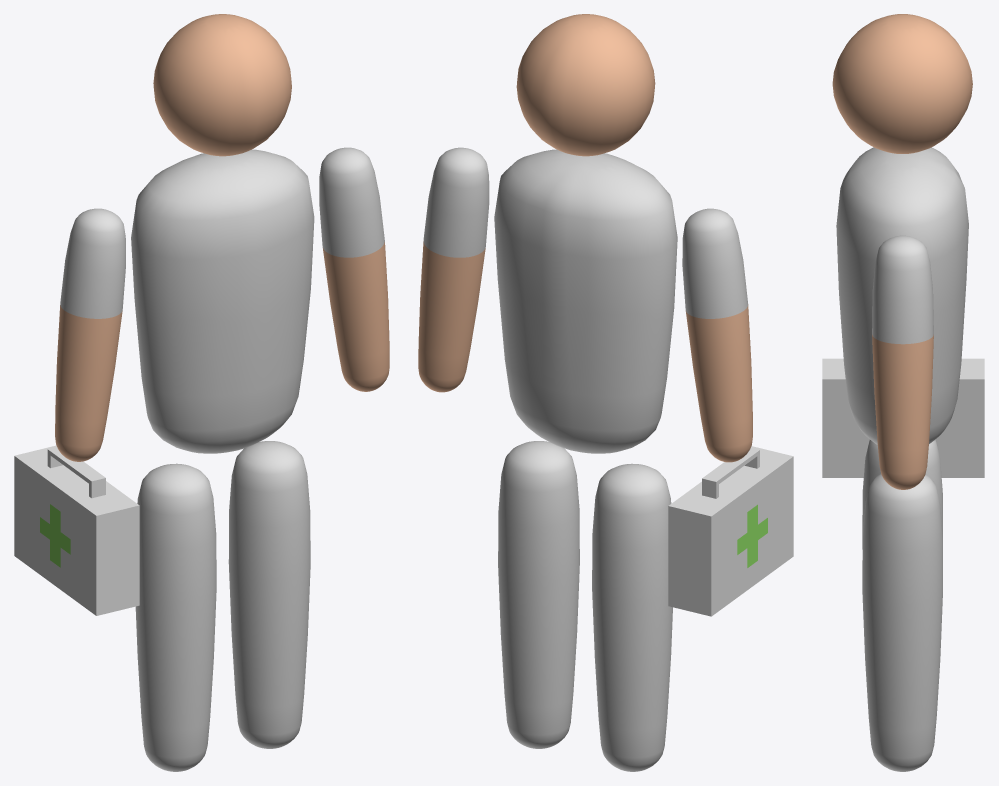
File: Medic.fbx
The picture shows the model from 3 angles, left to right: view 1: azimuth 30°, elevation 25°; view 2: azimuth 150°, elevation 25°; view 3: azimuth 270°, elevation 25°; orthographic projection.
Visible parts, largest first — view 1: Cube; view 2: Cube; view 3: Cube.
Part boxes in pixels (<box>): Cube: <box>14,14,389,771</box>; Cube: <box>418,14,793,771</box>; Cube: <box>822,14,984,771</box>.
Bounding box in the file's own units: 85.43 × 182 × 36.74.
